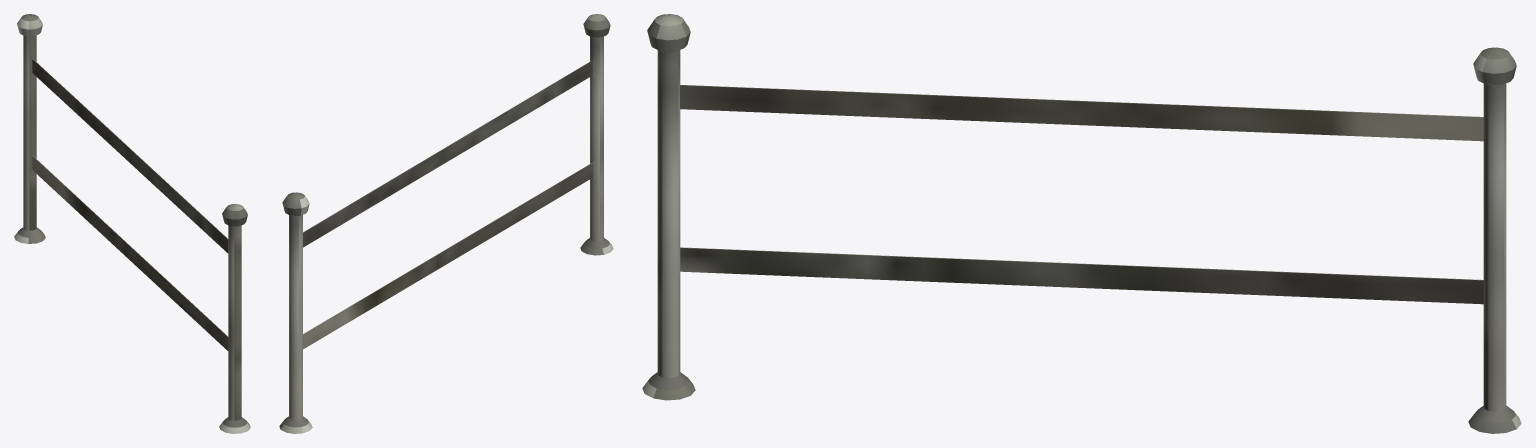
The model's file is Varandal.fbx.
3 views of the same model, side by side, from view 1: azimuth 30°, elevation 25°; view 2: azimuth 150°, elevation 25°; view 3: azimuth 270°, elevation 25° (orthographic). The views are drawn at different scales.
Visible parts, largest first — view 1: Mesh (9).003; view 2: Mesh (9).003; view 3: Mesh (9).003.
Part boxes in pixels (x1=…): Mesh (9).003: x1=14, y1=14, x2=250, y2=433; Mesh (9).003: x1=279, y1=14, x2=613, y2=433; Mesh (9).003: x1=642, y1=14, x2=1521, y2=433.
Bounding box in the file's own units: 28.16 × 87.29 × 187.
1 material, 1 textured.
